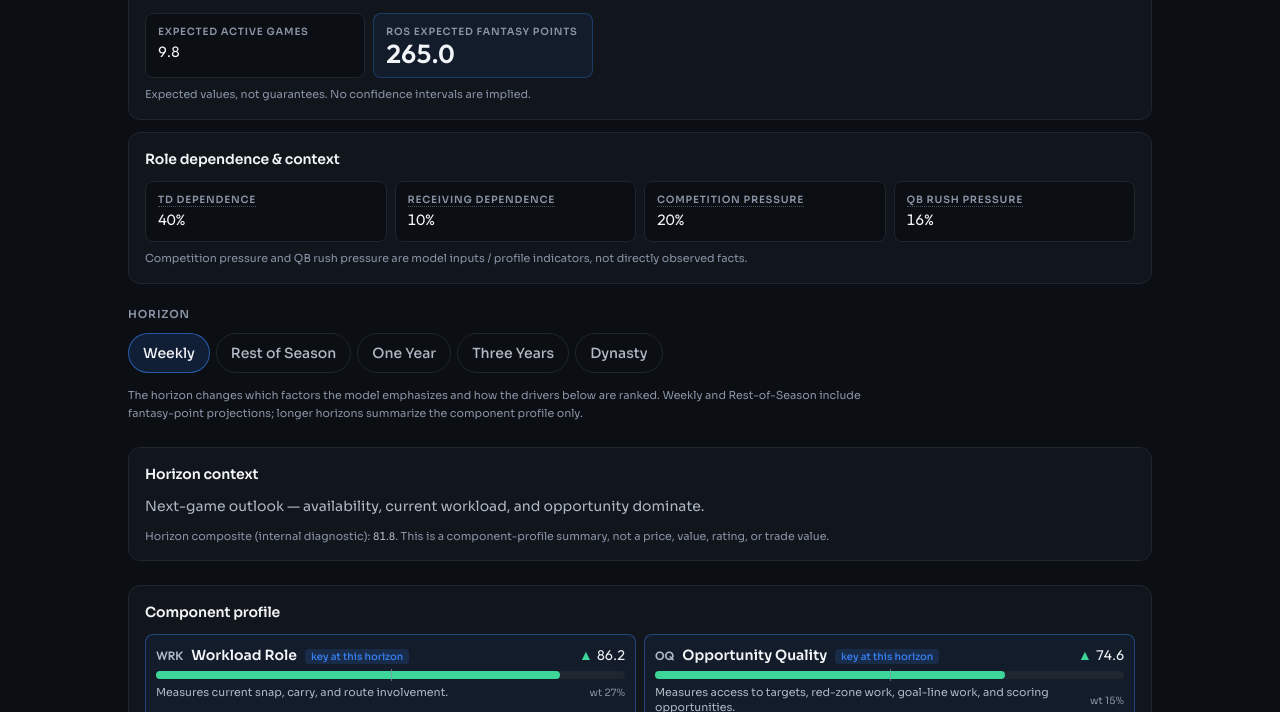
Test: §25.5 long-term horizons defer fantasy points (both positions) › RB: long-term horizons show the deferral notice, keep components, and never fabricate points
The image size is (1280, 712).
(page scrolled)
Click the tab "Three Years": (513, 353) [457,333,569,373]
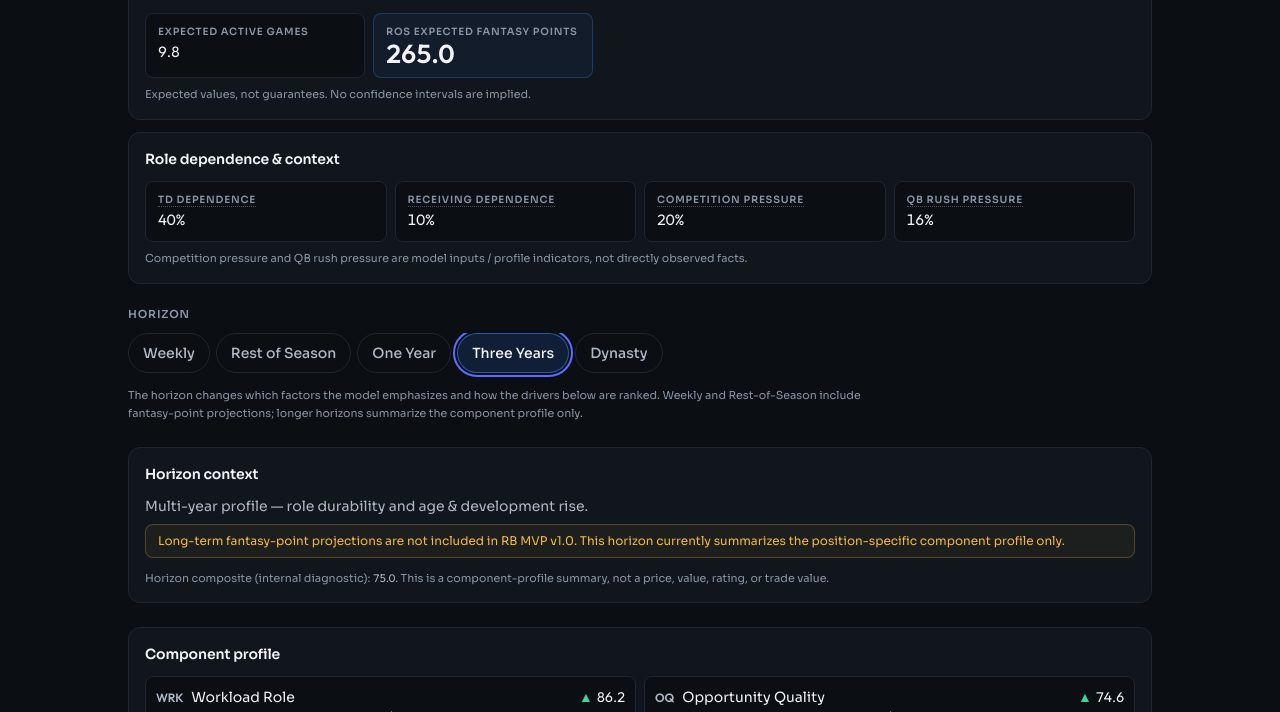
Expected: the text "Workload Role" is shown, [191,687,295,707]
Expected: the text "not included in RB MVP v1.0" is shown, [158,533,1065,548]
